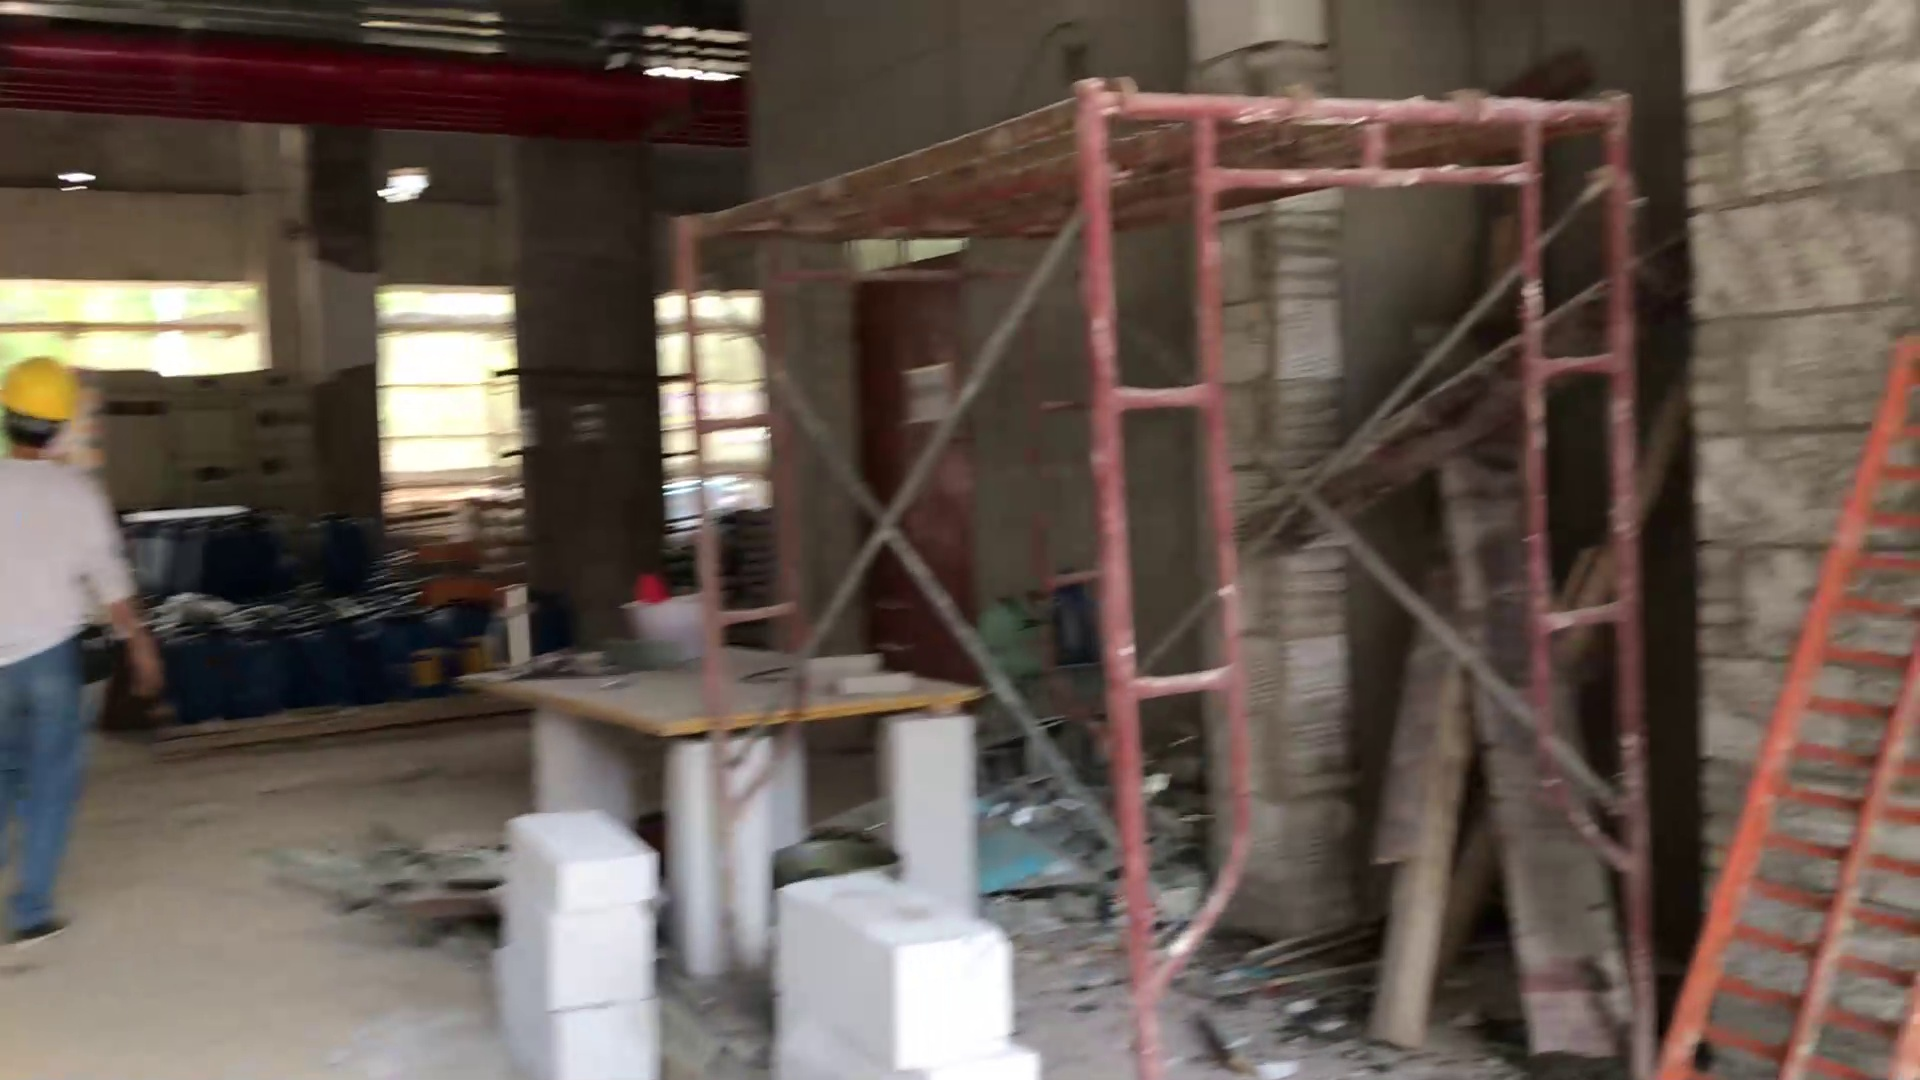brick: (764, 873, 1034, 1080), (491, 804, 662, 1080)
helmet: (1, 357, 91, 436)
person: (1, 333, 177, 968)
